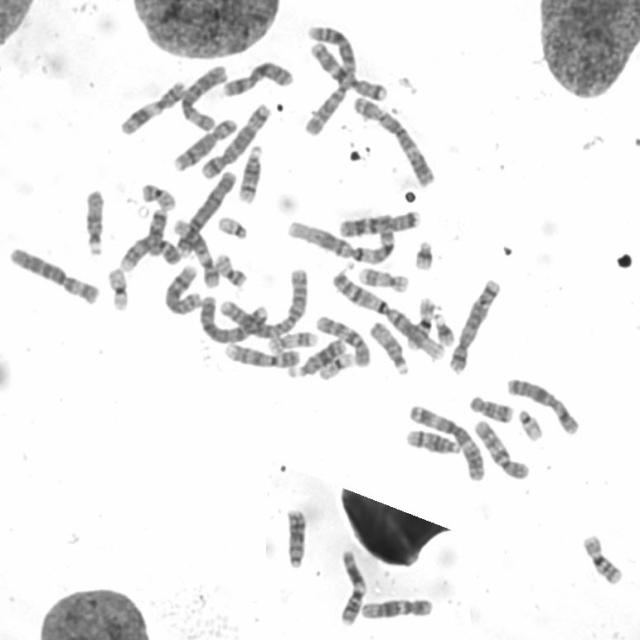A1: (329, 265, 445, 362), (284, 211, 399, 266)
A2: (217, 264, 310, 341), (300, 21, 358, 137)
A3: (350, 92, 437, 188), (404, 400, 486, 482)
B4: (172, 166, 238, 256), (195, 291, 270, 346)
B5: (198, 100, 273, 180), (446, 275, 502, 375)
C10: (470, 416, 531, 481), (313, 312, 372, 369)
C11: (116, 77, 188, 137), (334, 548, 367, 627)
C12: (170, 216, 219, 289), (356, 594, 434, 620)
C6: (7, 244, 101, 306), (177, 61, 230, 133)
C7: (307, 38, 388, 102), (336, 206, 422, 238)
C8: (170, 115, 238, 173), (162, 262, 203, 317)
C9: (117, 232, 182, 274), (222, 340, 301, 370)
D13: (284, 335, 346, 379), (281, 505, 308, 570)
D14: (234, 142, 264, 204), (403, 426, 462, 456)
D15: (367, 318, 411, 377), (80, 186, 107, 258)
E16: (580, 530, 624, 586), (403, 294, 434, 349)
E17: (355, 264, 411, 294), (266, 328, 318, 354)
E18: (467, 392, 514, 424), (144, 205, 168, 258)
F19: (105, 264, 132, 312), (316, 350, 356, 382)
F20: (212, 250, 250, 288), (138, 180, 178, 212)
G21: (410, 237, 436, 273), (431, 312, 457, 347)
G22: (515, 405, 545, 442), (216, 213, 248, 240)
X: (504, 374, 581, 436), (220, 57, 294, 98)
